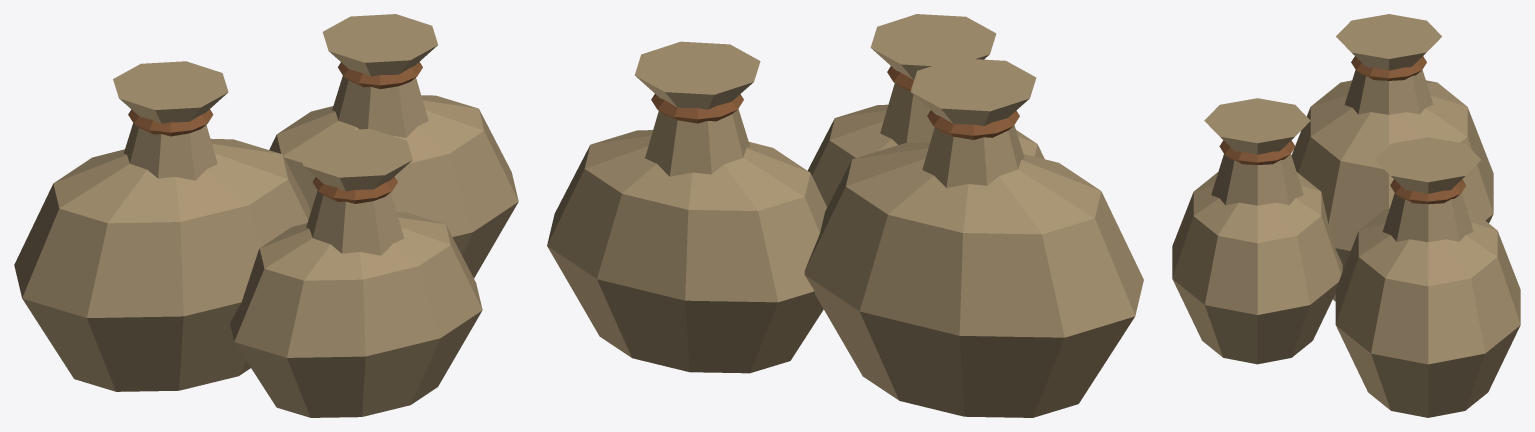
Rendered from PROP_03_SackPile.glb.
The picture shows the model from 3 angles, left to right: view 1: azimuth 30°, elevation 25°; view 2: azimuth 150°, elevation 25°; view 3: azimuth 270°, elevation 25°; orthographic projection. The views are drawn at different scales.
Parts seen in each view (by area): view 1: PROP_03_SackPile; view 2: PROP_03_SackPile; view 3: PROP_03_SackPile.
Boxes of the visible parts, <box> form: PROP_03_SackPile: <box>14,14,518,417</box>; PROP_03_SackPile: <box>547,14,1143,417</box>; PROP_03_SackPile: <box>1172,14,1520,417</box>.
Bounding box in the file's own units: 1.48 × 0.832 × 0.9799.
